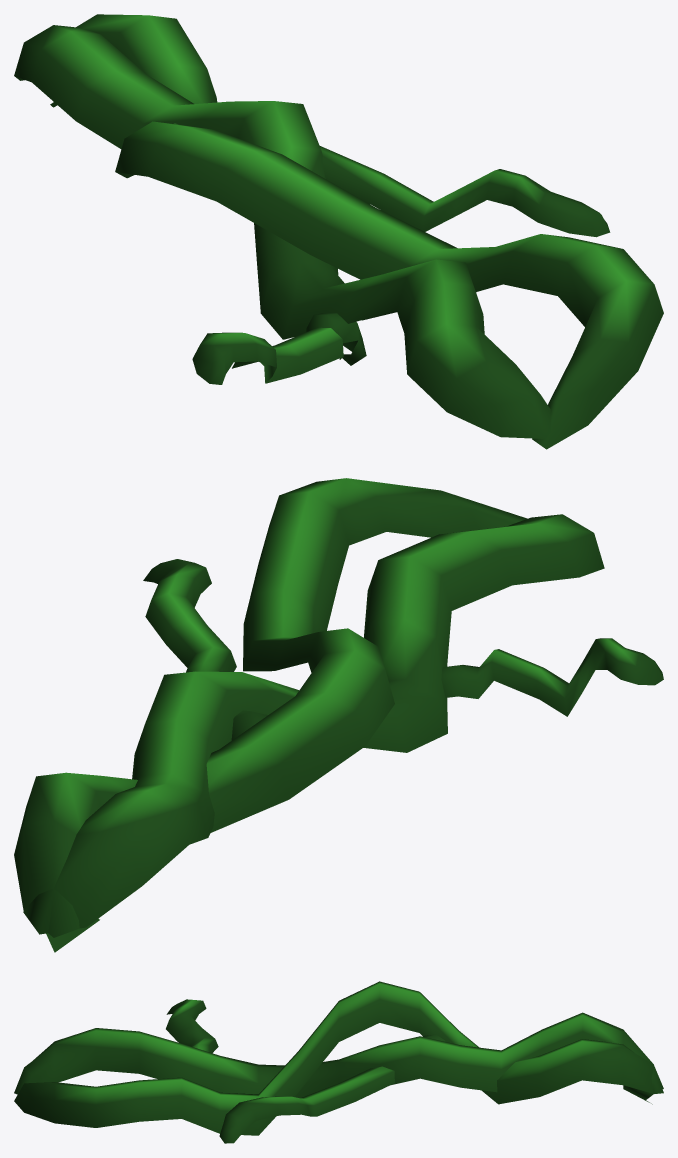
The model's file is vine2.fbx.
The picture shows the model from 3 angles, top to bottom: view 1: azimuth 30°, elevation 25°; view 2: azimuth 150°, elevation 25°; view 3: azimuth 270°, elevation 25°; orthographic projection. The views are drawn at different scales.
Parts seen in each view (by area): view 1: pCube80; view 2: pCube80; view 3: pCube80.
Part boxes in pixels (box(x1,y1,x2,y2)): pCube80: box(14, 14, 663, 449); pCube80: box(14, 478, 663, 952); pCube80: box(14, 981, 663, 1143).
Bounding box in the file's own units: 50.79 × 17.89 × 97.75.
